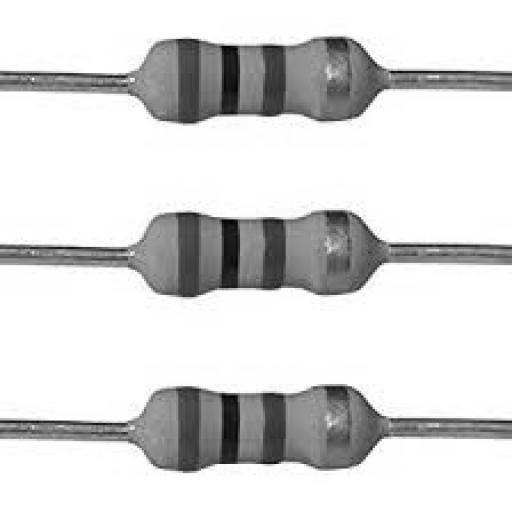RESISTOR: (46, 182, 408, 375), (78, 336, 429, 499), (90, 40, 422, 211)
